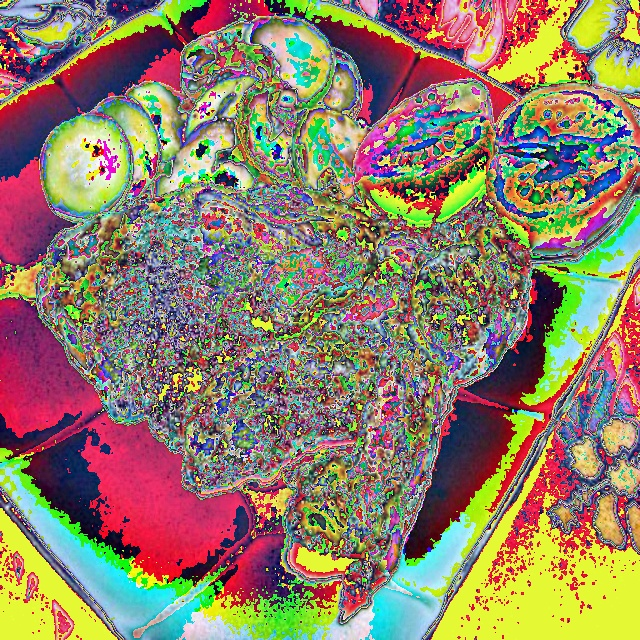background: (37, 15, 639, 608)
